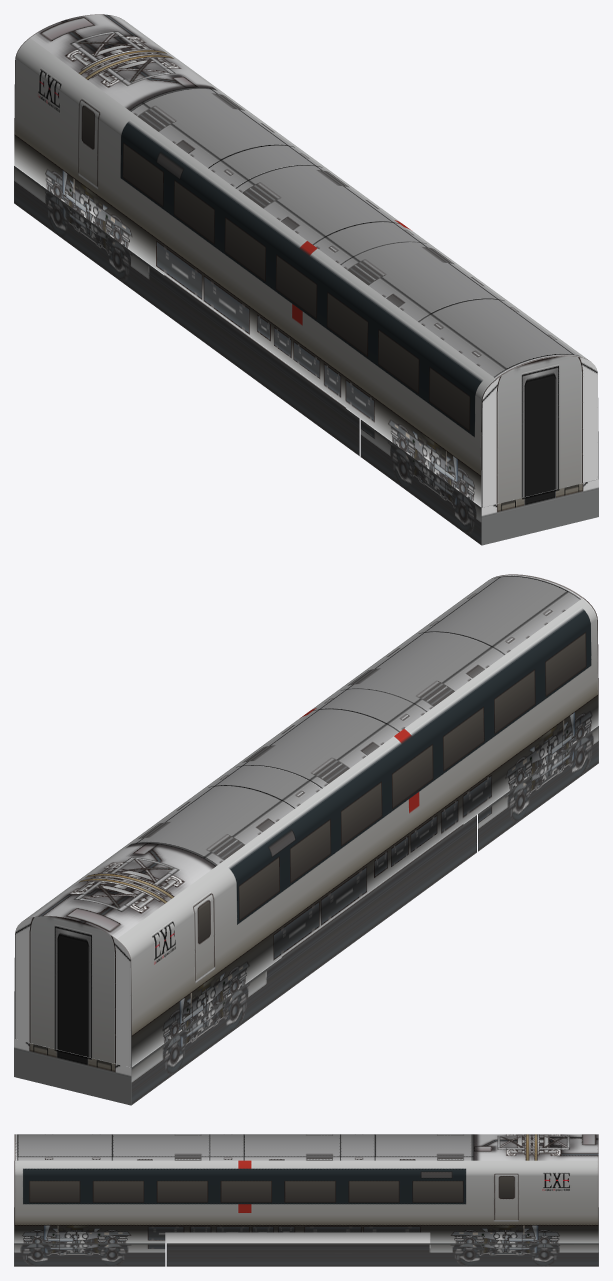
Rendered from car2.glb.
3 views of the same model, one above another, from view 1: azimuth 30°, elevation 25°; view 2: azimuth 150°, elevation 25°; view 3: azimuth 270°, elevation 25° (orthographic). The views are drawn at different scales.
Parts seen in each view (by area): view 1: odakyu-30000-car2; view 2: odakyu-30000-car2; view 3: odakyu-30000-car2.
Boxes of the visible parts, bbox=[...] form: odakyu-30000-car2: bbox=[14, 14, 598, 545]; odakyu-30000-car2: bbox=[14, 574, 598, 1105]; odakyu-30000-car2: bbox=[14, 1134, 598, 1266].
Size of the model in its own units: 2.9 by 4.05 by 20.03.
9 materials, 8 textured.
